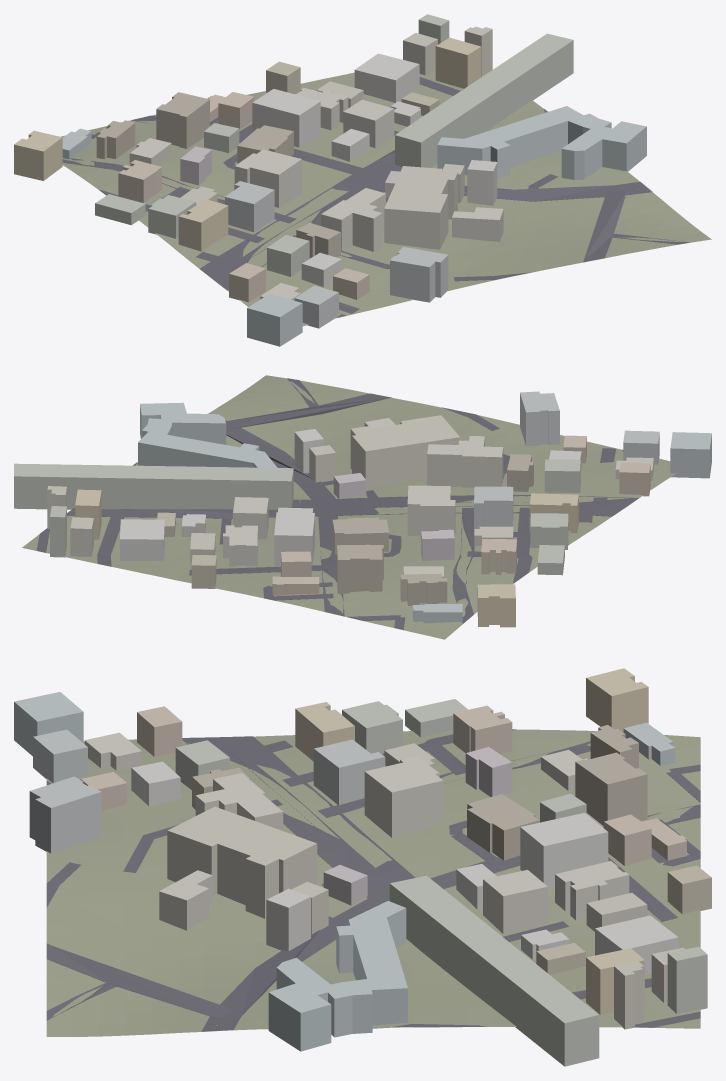
File: chunk_0_7.glb
The picture shows the model from 3 angles, top to bottom: view 1: azimuth 30°, elevation 25°; view 2: azimuth 150°, elevation 25°; view 3: azimuth 270°, elevation 25°; orthographic projection. The views are drawn at different scales.
Parts seen in each view (by area): view 1: geometry_47, geometry_0, geometry_43, geometry_26, geometry_28, geometry_27, geometry_38, geometry_15, geometry_7, geometry_1, geometry_33, geometry_21 (+36 smaller); view 2: geometry_47, geometry_43, geometry_0, geometry_26, geometry_28, geometry_15, geometry_1, geometry_27, geometry_7, geometry_33, geometry_38, geometry_22 (+41 smaller); view 3: geometry_47, geometry_43, geometry_0, geometry_26, geometry_15, geometry_38, geometry_27, geometry_1, geometry_24, geometry_13, geometry_22, geometry_2 (+44 smaller).
Part boxes in pixels (left/top/right/bottom): geometry_47: left=60, top=70, right=711, bottom=326; geometry_0: left=437, top=106, right=646, bottom=179; geometry_43: left=395, top=33, right=573, bottom=167; geometry_26: left=384, top=166, right=457, bottom=249; geometry_28: left=321, top=188, right=385, bottom=251; geometry_27: left=390, top=247, right=448, bottom=302; geometry_38: left=252, top=89, right=320, bottom=147; geometry_15: left=234, top=149, right=301, bottom=207; geometry_7: left=354, top=53, right=419, bottom=102; geometry_1: left=156, top=92, right=209, bottom=148; geometry_33: left=247, top=294, right=302, bottom=346; geometry_21: left=178, top=199, right=228, bottom=251; geometry_47: left=22, top=375, right=676, bottom=639; geometry_43: left=14, top=463, right=293, bottom=509; geometry_0: left=138, top=402, right=277, bottom=467; geometry_26: left=350, top=415, right=460, bottom=487; geometry_28: left=427, top=436, right=503, bottom=487; geometry_15: left=407, top=485, right=455, bottom=536; geometry_1: left=337, top=545, right=383, bottom=593; geometry_27: left=520, top=391, right=559, bottom=446; geometry_7: left=120, top=519, right=164, bottom=560; geometry_33: left=670, top=432, right=711, bottom=478; geometry_38: left=274, top=512, right=314, bottom=566; geometry_22: left=477, top=584, right=515, bottom=627; geometry_47: left=46, top=729, right=700, bottom=1036; geometry_43: left=389, top=875, right=599, bottom=1066; geometry_0: left=268, top=901, right=407, bottom=1051; geometry_26: left=167, top=806, right=317, bottom=918; geometry_15: left=364, top=756, right=443, bottom=837; geometry_38: left=520, top=812, right=608, bottom=890; geometry_27: left=29, top=776, right=101, bottom=853; geometry_1: left=575, top=752, right=647, bottom=825; geometry_24: left=483, top=869, right=547, bottom=933; geometry_13: left=313, top=739, right=385, bottom=805; geometry_22: left=586, top=668, right=648, bottom=731; geometry_2: left=467, top=794, right=539, bottom=860.
Bounding box in the file's own units: 310 × 29.26 × 267.
